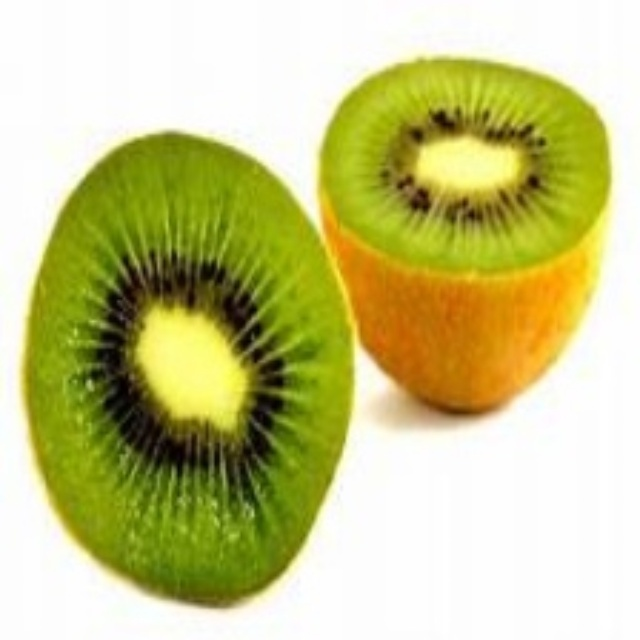kiwi: (22, 131, 354, 617), (317, 57, 617, 423)
